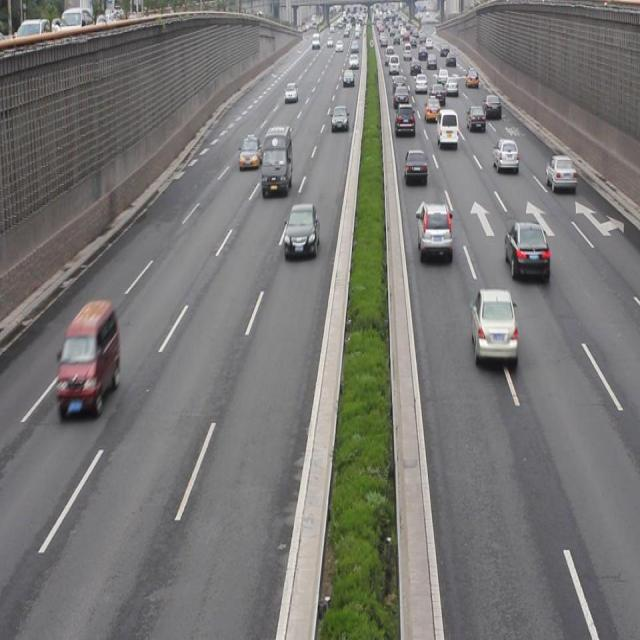car: (468, 287, 517, 367), (502, 223, 549, 282), (415, 201, 450, 261), (285, 203, 320, 259), (546, 154, 576, 193), (491, 136, 517, 173), (403, 148, 426, 184), (239, 135, 262, 170), (394, 102, 415, 137), (466, 106, 484, 131)
truck: (58, 299, 121, 416), (260, 128, 290, 192), (436, 112, 458, 150)
